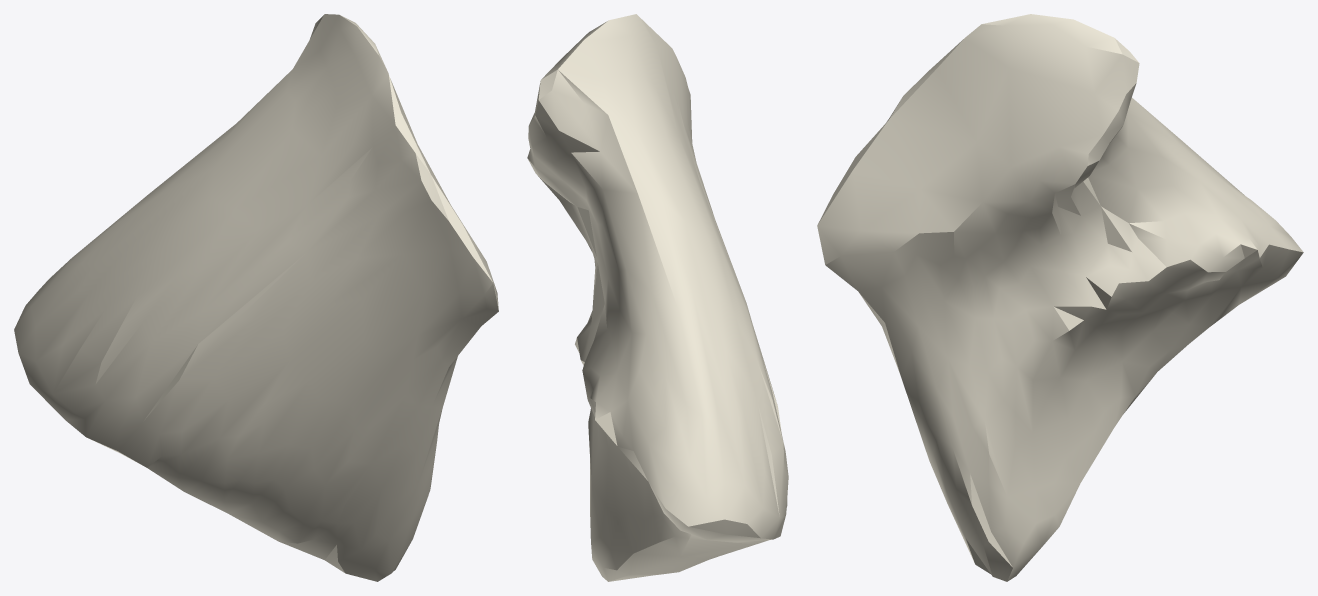
Rendered from fma312039_mm1400m.glb.
3 renders of one model, left to right at view 1: azimuth 30°, elevation 25°; view 2: azimuth 150°, elevation 25°; view 3: azimuth 270°, elevation 25°, orthographic. The views are drawn at different scales.
Visible parts, largest first — view 1: FMA312039_MM1400M; view 2: FMA312039_MM1400M; view 3: FMA312039_MM1400M.
Part boxes in pixels (x1,y1,x2,y2): FMA312039_MM1400M: [14, 14, 498, 581]; FMA312039_MM1400M: [527, 14, 788, 581]; FMA312039_MM1400M: [817, 14, 1303, 581].
Size of the model in its own units: 0.0116 by 0.0207 by 0.0163.
